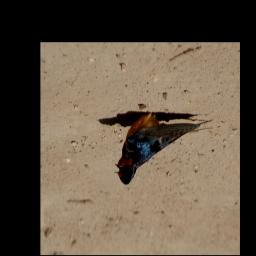Swallow: (115, 115, 212, 186)
